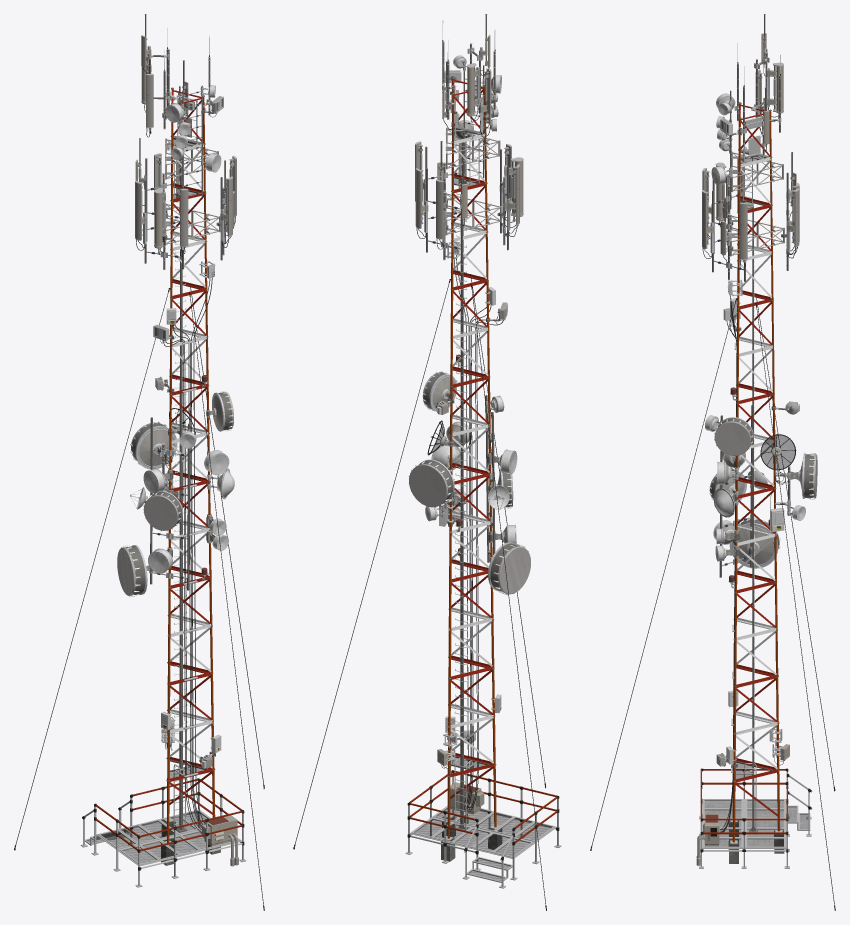
File: Tower 3 new.glb
The picture shows the model from 3 angles, left to right: view 1: azimuth 30°, elevation 25°; view 2: azimuth 150°, elevation 25°; view 3: azimuth 270°, elevation 25°; orthographic projection. The views are drawn at different scales.
Parts seen in each view (by area): view 1: Tower 3; view 2: Tower 3; view 3: Tower 3.
Part boxes in pixels (bbox=[...]): Tower 3: bbox=[14, 14, 264, 910]; Tower 3: bbox=[293, 14, 561, 910]; Tower 3: bbox=[590, 14, 835, 910].
Size of the model in its own units: 0.38 by 1.21 by 0.3284.
20 materials, 13 textured.
